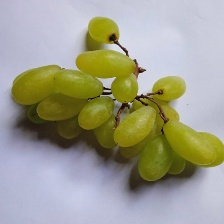grapes: (40, 0, 212, 196)
